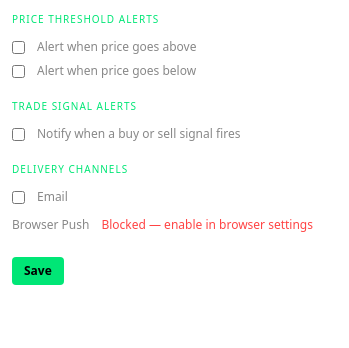
AlertSettings › shows email input when email toggle is checked
This screenshot has width=349, height=348.
What coordinates should you click on to do the following:
click the checkbox with test id "email-toggle"
I would click on:
 (18, 197)
Its box is [12,190,25,204].
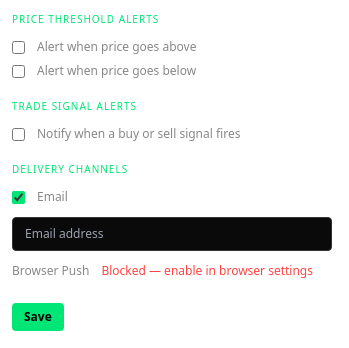
Check: the field with test id "email-input" is shown, box [12,217,332,251]
